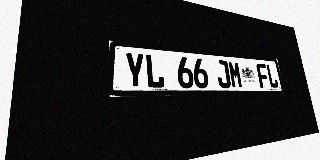6: (176, 56, 194, 88), (192, 58, 209, 88)
F: (256, 63, 270, 88)
J: (215, 60, 231, 88)
L: (145, 54, 165, 88), (265, 64, 279, 88)
M: (228, 61, 243, 88)
Y: (124, 52, 146, 88)
